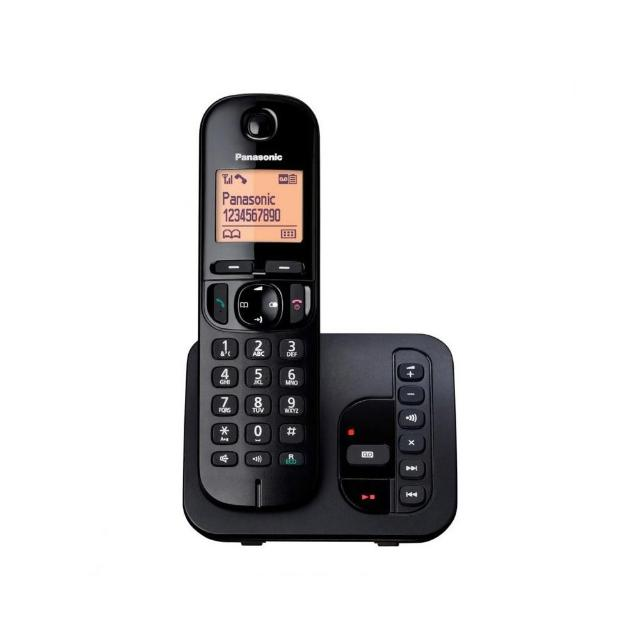Telephone-Set: (158, 80, 474, 556)
